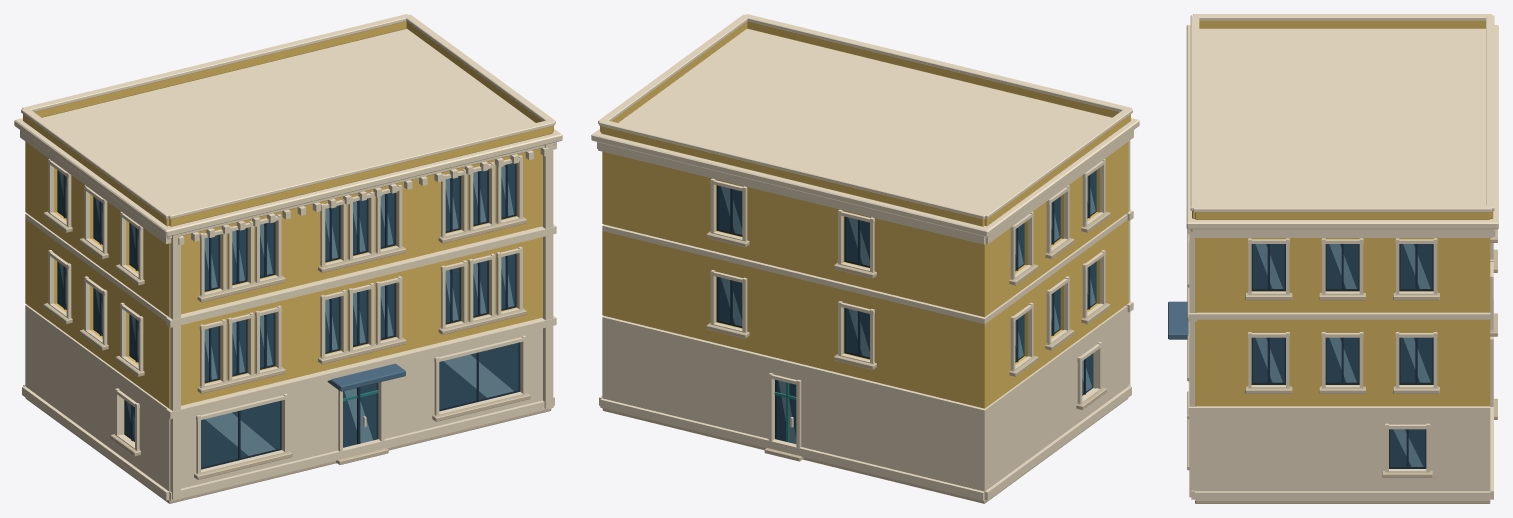
File: narrow_window_office.glb
3 views of the same model, side by side, from view 1: azimuth 30°, elevation 25°; view 2: azimuth 150°, elevation 25°; view 3: azimuth 270°, elevation 25° (orthographic). The views are drawn at different scales.
Visible parts, largest first — view 1: NarrowWindowOffice_StaticMesh; view 2: NarrowWindowOffice_StaticMesh; view 3: NarrowWindowOffice_StaticMesh.
Boxes of the visible parts, x1=… form: NarrowWindowOffice_StaticMesh: x1=14, y1=14, x2=562, y2=503; NarrowWindowOffice_StaticMesh: x1=591, y1=14, x2=1139, y2=503; NarrowWindowOffice_StaticMesh: x1=1168, y1=14, x2=1498, y2=503.
Bounding box in the file's own units: 14.32 × 10 × 10.08.
